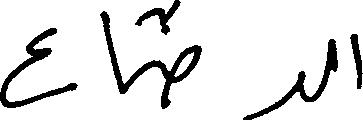X: (0, 23, 75, 112), (244, 66, 305, 119), (171, 0, 200, 88), (101, 6, 122, 98), (319, 34, 335, 101), (351, 29, 362, 93)
